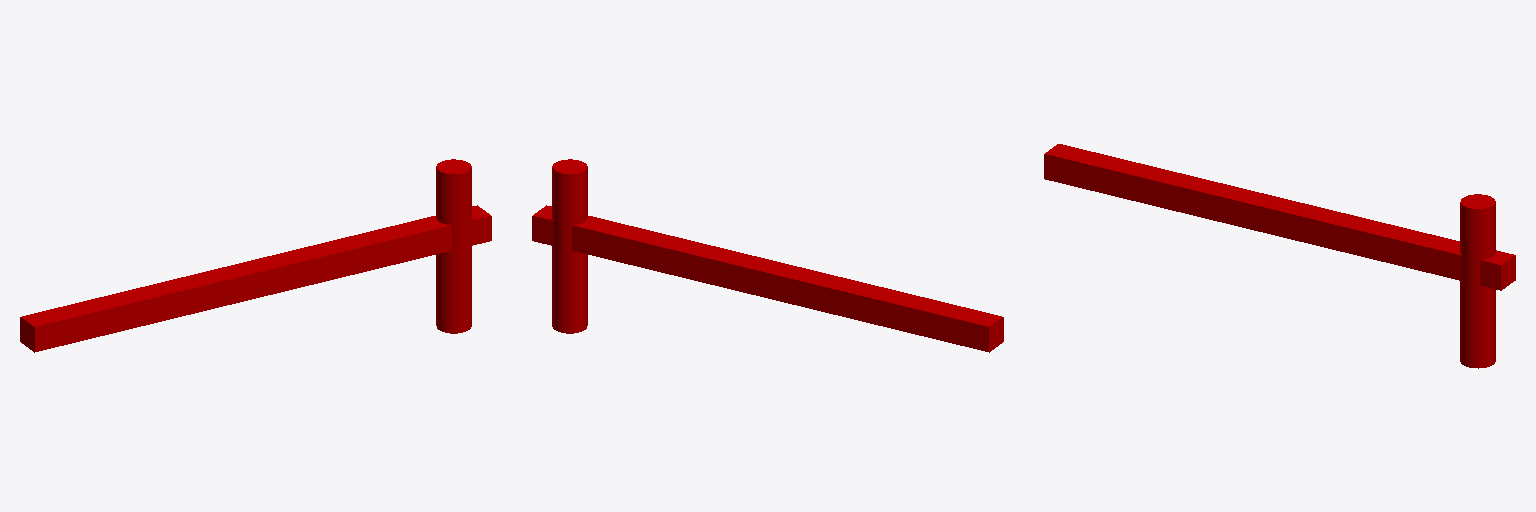
robot.urdf — barrera:
<?xml version="1.0"?>

<robot name="barrera">

    <material name="red">
        <color rgba="0.8 0 0 1" />
    </material>

    <link name="body_barrera">
<!-- 
        <inertial>
            <origin xyz="0 0 0.1" />
            <mass value="10000.0" />
            <inertia ixx="1.0" ixy="0.0" ixz="0.0"
            iyy="1.0" iyz="0.0" izz="1.0" />

        </inertial> -->
        <visual>        
            <origin xyz="0 0 0.1" />
            <geometry>
                <cylinder length="0.5" radius="0.05"/>
            </geometry>
            <material name="red"/>
        </visual>

        <collision>
            <origin xyz="0 0 0.1" />
            <geometry>
                <cylinder length="0.5" radius="0.08"/>
            </geometry>
        </collision>
    </link>

     <link name="brazo_barrera">

        <inertial>
            <origin xyz="-0.65 0 0.05" />
            <mass value="5.0" />
            <inertia ixx="0.0" ixy="0.0" ixz="0.0"
            iyy="0.0" iyz="0.0" izz="0.0" />

        </inertial>
        <visual>        
            <origin xyz="-0.65 0 0.05" />
            <geometry>
                <box size="1.5 0.08 0.08" />
            </geometry>
            <material name="red"/>
        </visual>

        <collision>
            <origin xyz="-0.65 0 0.05" />
            <geometry>
                <box size="1.5 0.08 0.08" />
            </geometry>
        </collision>
    </link>

     <joint name="barrier" type="revolute">
        <parent link="body_barrera" />
        <child link="brazo_barrera" />
        <dynamics damping="0.0" friction="0.0" />
        <origin xyz="0 0 0.1" />
        <axis xyz="0 0 1" />

        <limit lower="-3.15" upper="3.15" effort="1.0" velocity="0.5" />
    </joint>
</robot>

--- Render facts (derived) ---
The picture shows the robot from 3 angles, left to right: view 1: azimuth 30°, elevation 25°; view 2: azimuth 150°, elevation 25°; view 3: azimuth 330°, elevation 25°; orthographic projection.
Robot: barrera — 2 links, 1 joints (1 revolute); root link body_barrera; default pose: all joints at 0.
Visible links, largest first — view 1: brazo_barrera, body_barrera; view 2: brazo_barrera, body_barrera; view 3: brazo_barrera, body_barrera.
Link boxes in pixels (x1=…): brazo_barrera: x1=20, y1=205, x2=491, y2=352; body_barrera: x1=436, y1=159, x2=471, y2=333; brazo_barrera: x1=532, y1=205, x2=1003, y2=352; body_barrera: x1=552, y1=159, x2=587, y2=333; brazo_barrera: x1=1044, y1=144, x2=1515, y2=290; body_barrera: x1=1460, y1=194, x2=1495, y2=368.
Size in the robot's own frame: 1.5 by 0.1 by 0.5 metres.
Geometry: primitives only (box / cylinder / sphere), no mesh files.
